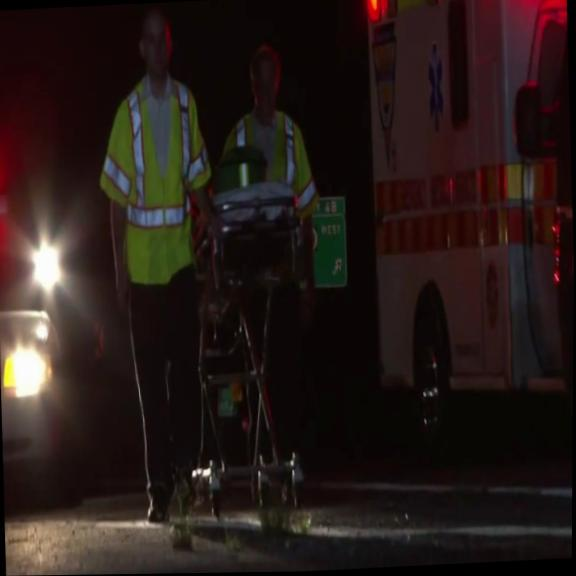safety_vest: (92, 73, 215, 291), (209, 107, 316, 212)
